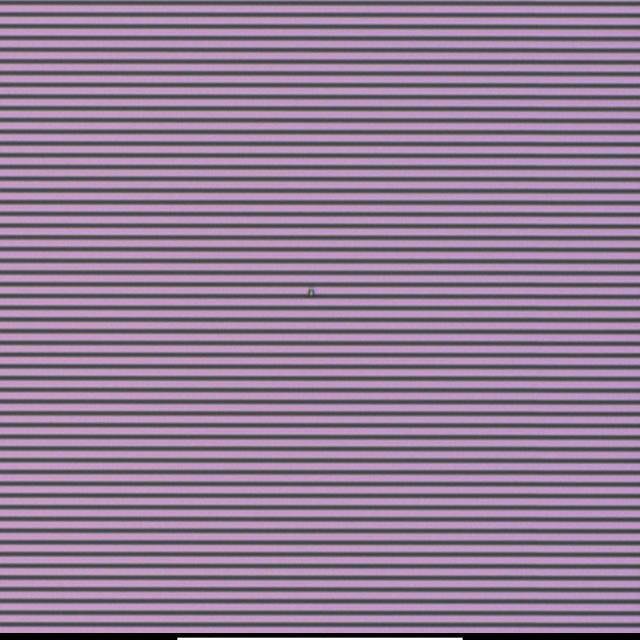03_intrusion: (307, 286, 316, 298)
